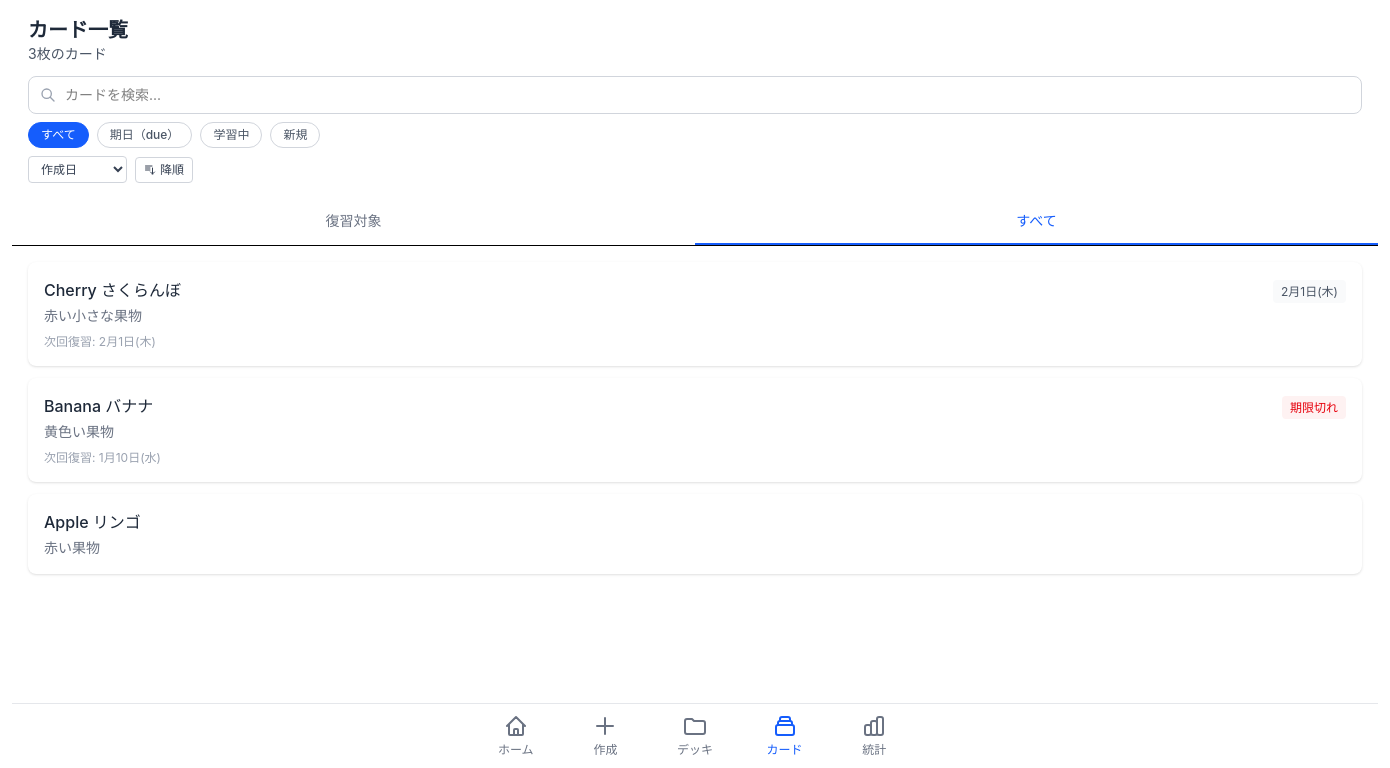
Test: CardsPage › 検索・フィルター統合テスト › FilterChipsでカードがフィルタリングされる
The image size is (1390, 768).
# 「新規」フィルタを選択
Click the button with test id "filter-chip-new" at [295, 135], box [270,122,320,148]
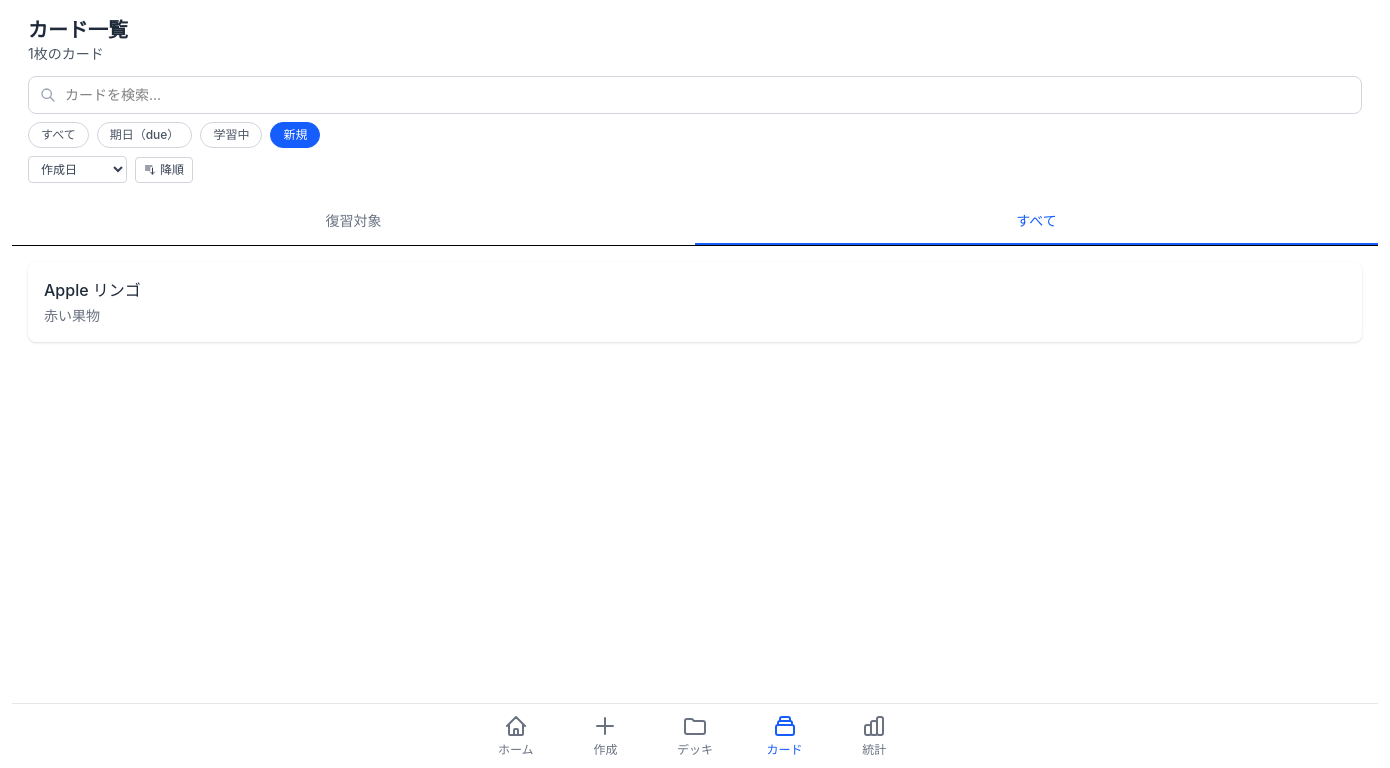
Expected: the text "Apple リンゴ" is shown, [44,280,141,300]
Result: the link "Banana バナナ" is gone
Result: the link "Cherry さくらんぼ" is gone
